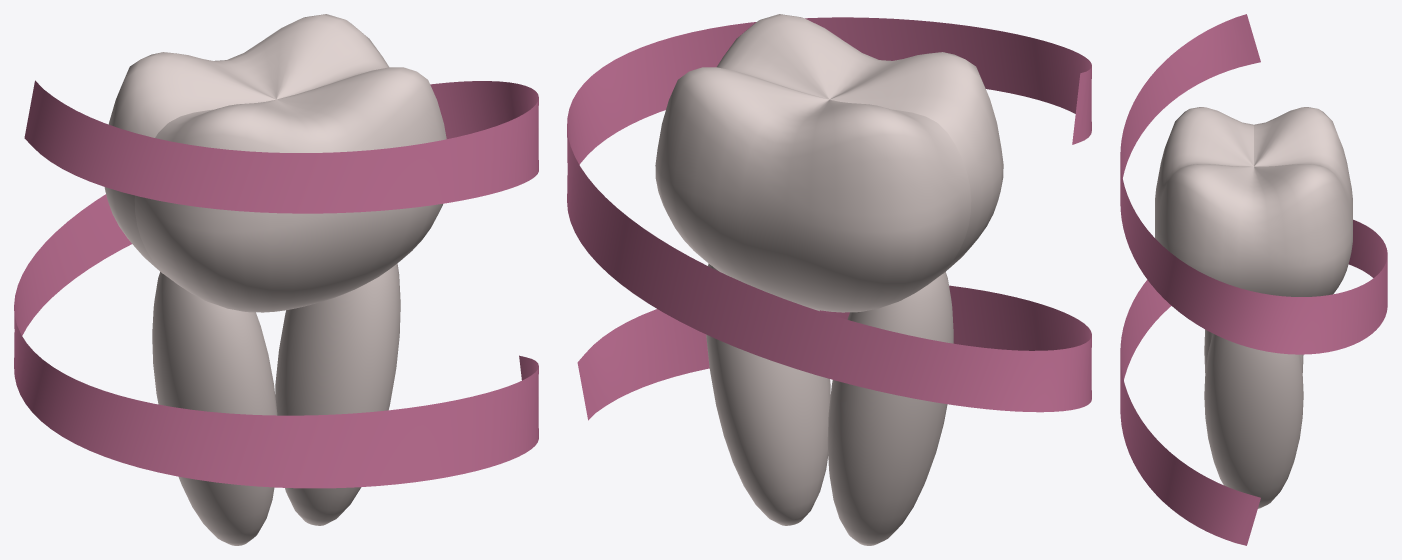
File: dental.glb
3 renders of one model, left to right at view 1: azimuth 30°, elevation 25°; view 2: azimuth 150°, elevation 25°; view 3: azimuth 270°, elevation 25°, orthographic. The views are drawn at different scales.
Visible parts, largest first — view 1: ribbon, crown, root_left, root_right; view 2: crown, ribbon, root_left, root_right; view 3: ribbon, crown, root_right.
Boxes of the visible parts, <box> form: ribbon: <box>14,80,538,488</box>; crown: <box>104,14,446,312</box>; root_left: <box>152,272,277,545</box>; root_right: <box>275,263,400,525</box>; crown: <box>655,14,1003,312</box>; ribbon: <box>567,17,1091,420</box>; root_left: <box>827,272,953,545</box>; root_right: <box>706,263,830,525</box>; ribbon: <box>1120,14,1387,545</box>; crown: <box>1155,107,1352,296</box>; root_right: <box>1204,333,1303,508</box>.
Size of the model in its own units: 2.51 by 2.5 by 1.56.
